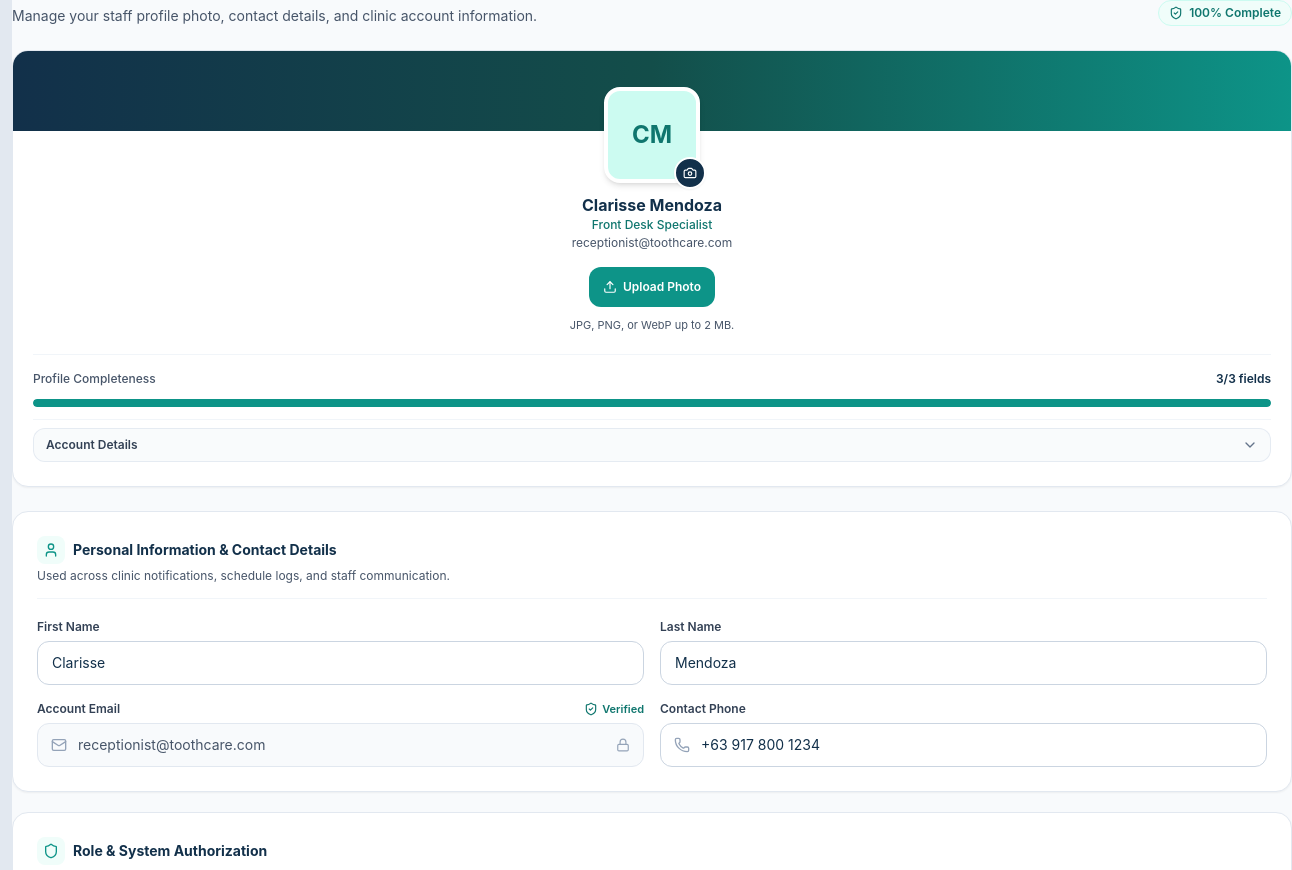
Test: StaffProfilePage Component › discards unsaved changes back to loaded snapshot
Replace the text in the field showing "Clarisse" with "Maria". click: (340, 662)
box: [37, 640, 644, 684]
(page scrolled)
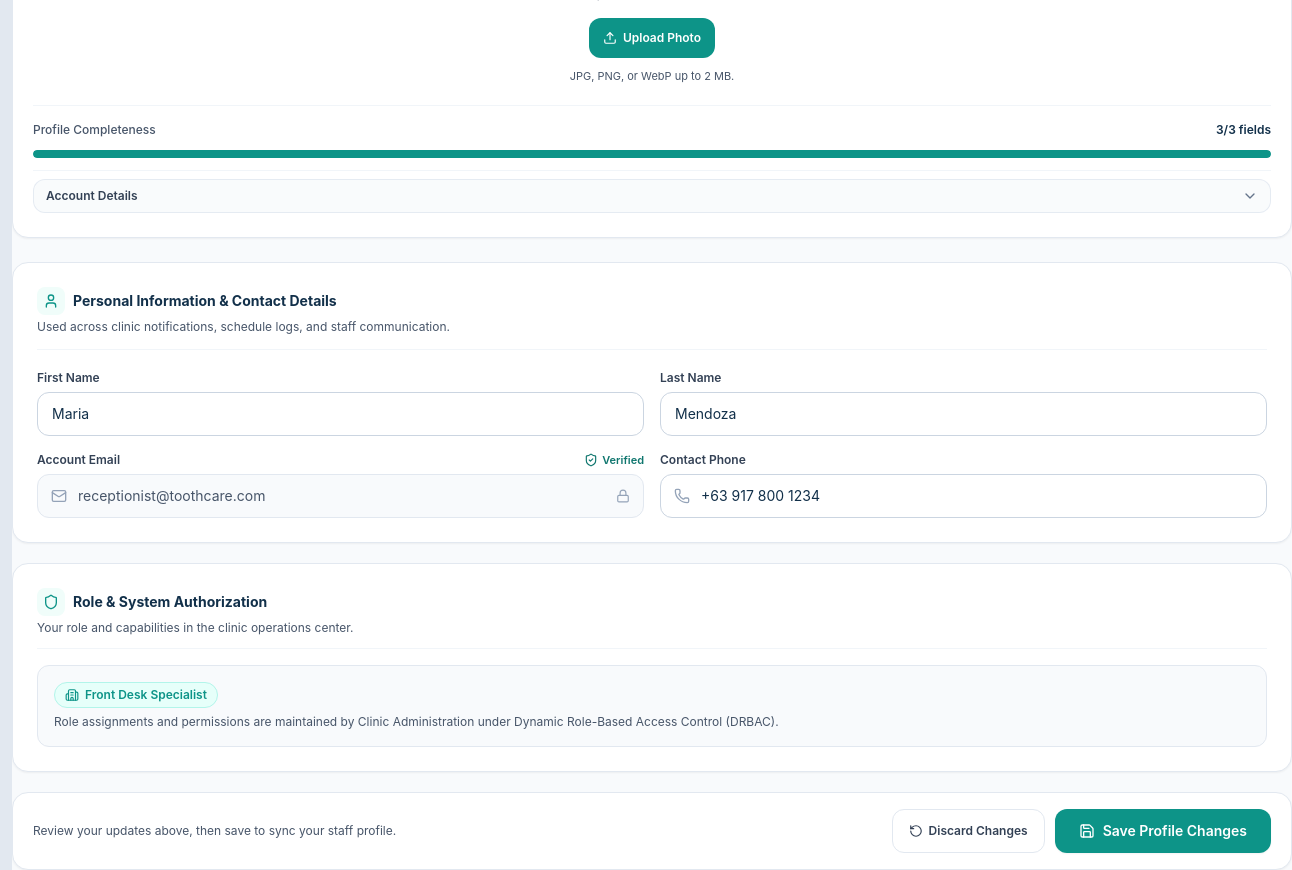
Click the button "Discard Changes". click: (968, 831)
box: [892, 809, 1045, 853]
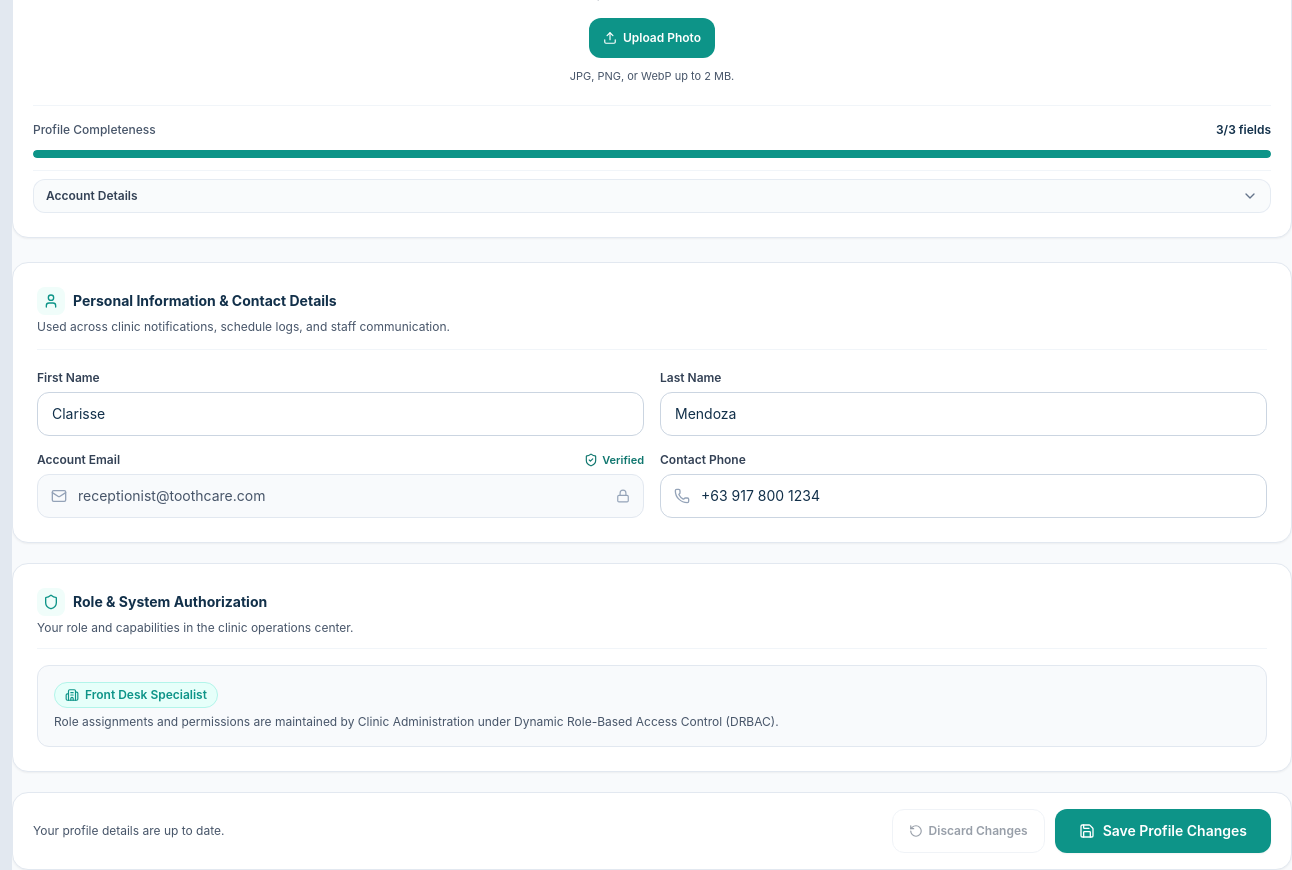
Expected: the field showing "Clarisse" is shown, [37, 392, 644, 436]
